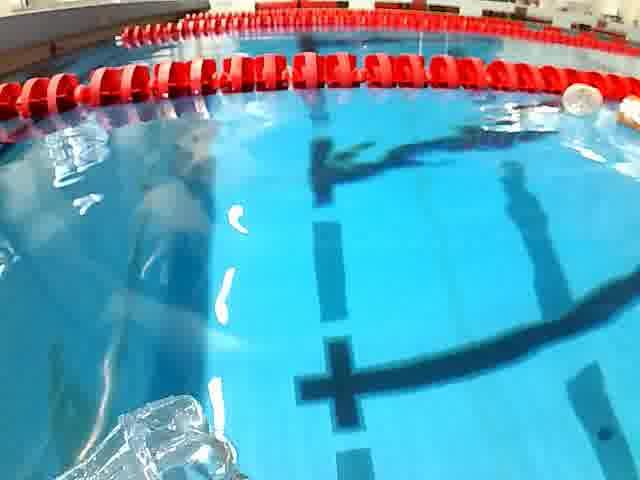Bottle: (36, 384, 253, 480), (549, 81, 605, 121)
